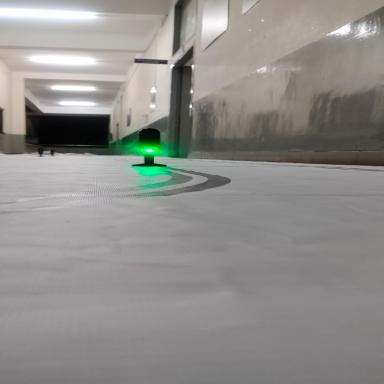green: (114, 116, 203, 190)
